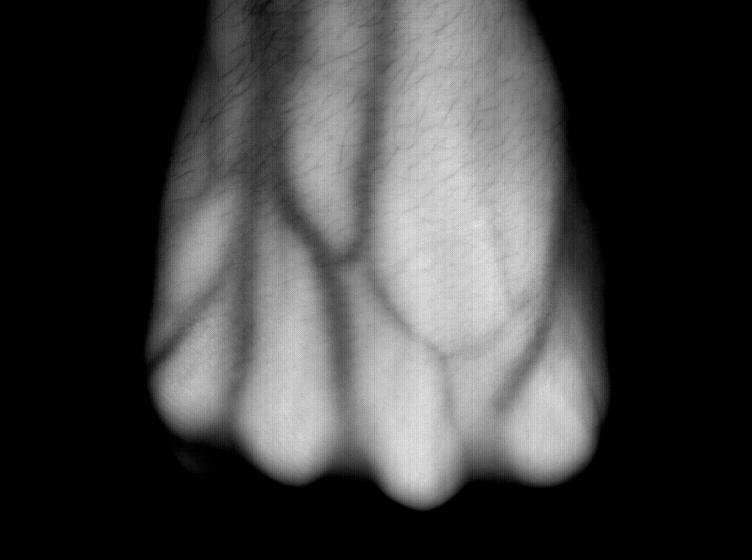Vein: (195, 27, 390, 375)
